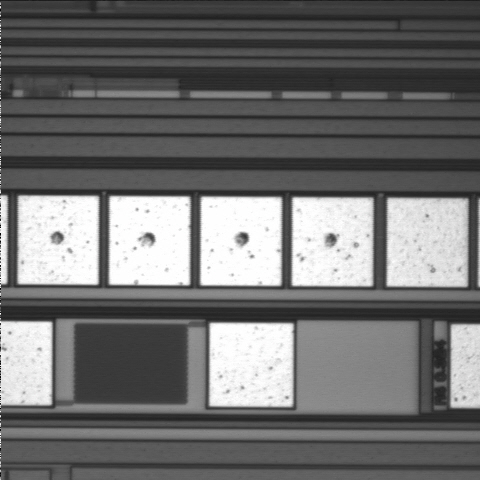pad: (200, 197, 282, 286), (18, 196, 99, 285), (109, 196, 190, 285), (292, 197, 373, 286), (387, 198, 468, 287), (209, 323, 293, 407)
